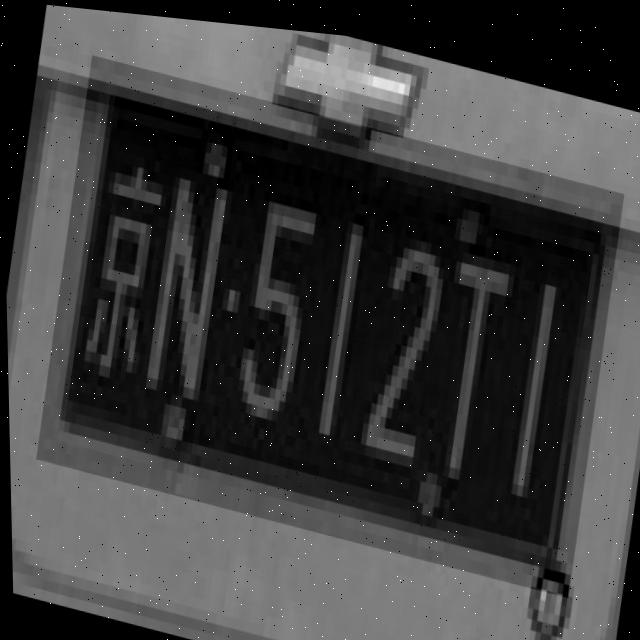LicensePlate: (27, 48, 630, 592)
